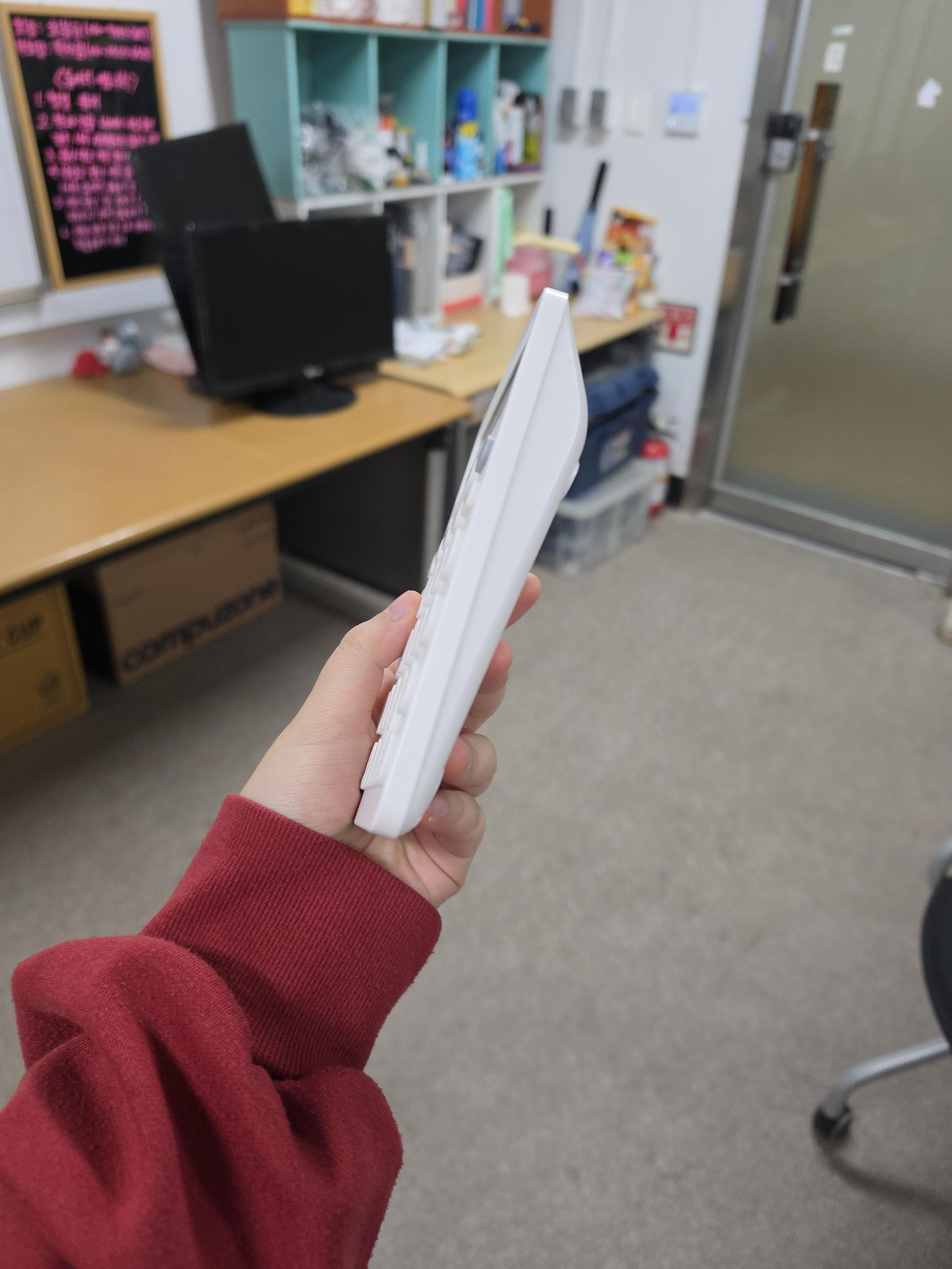calculator: (354, 287, 588, 839)
